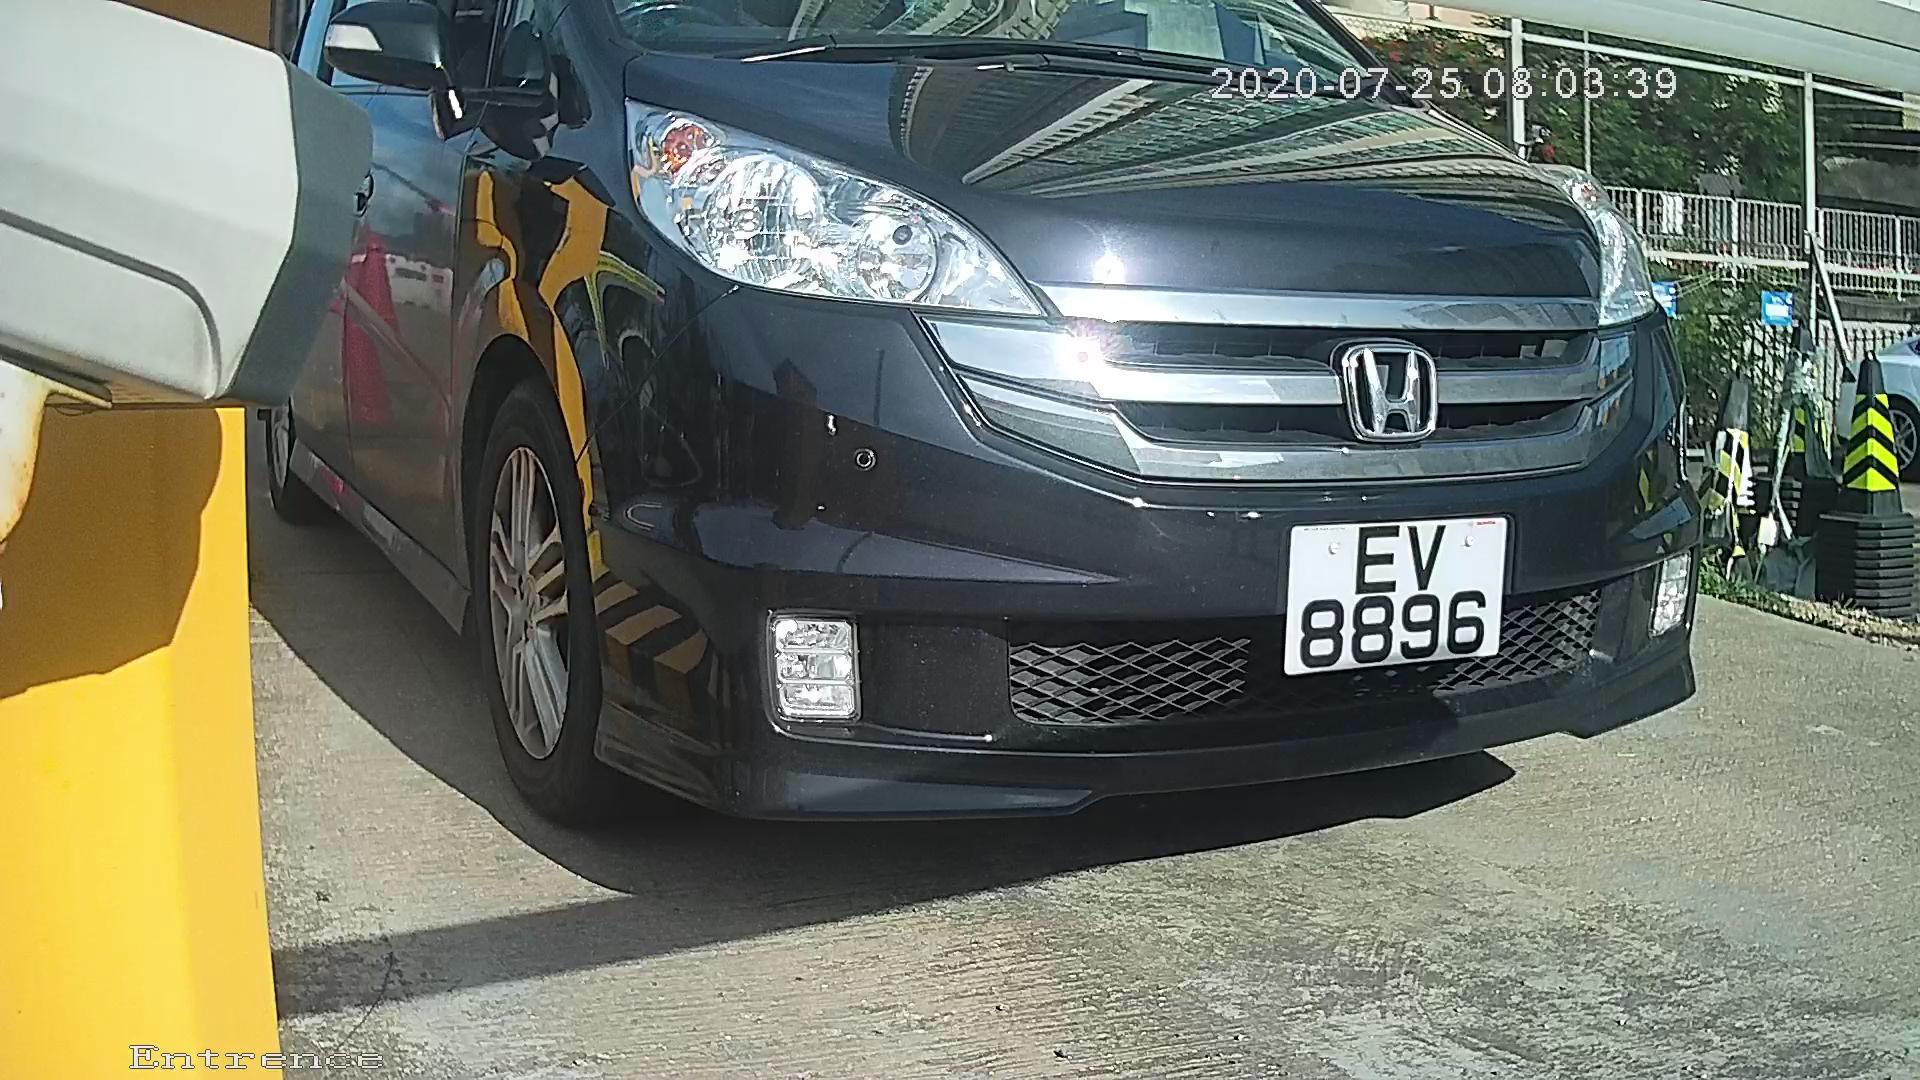Car: (249, 1, 1766, 941)
License Plate: (1261, 497, 1518, 685)
